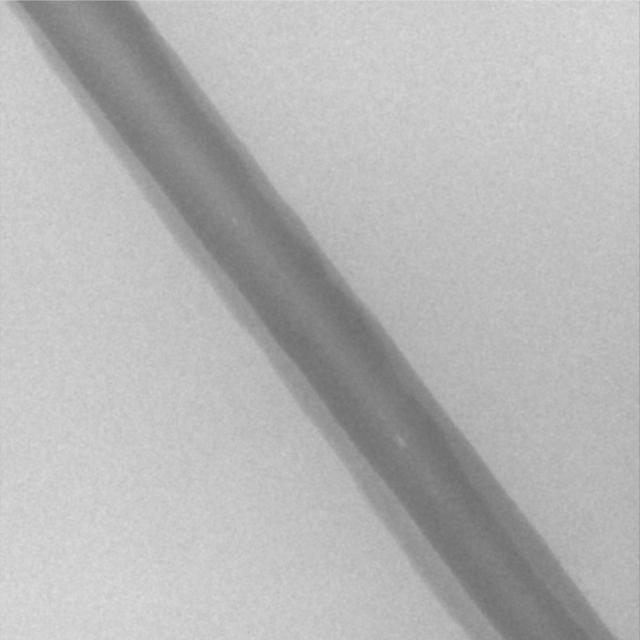air hole: (393, 433, 408, 451)
